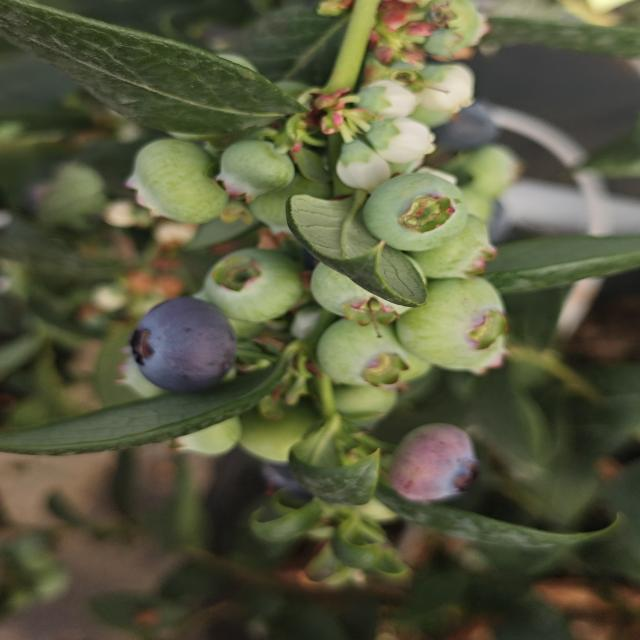ripe: (123, 284, 231, 389)
